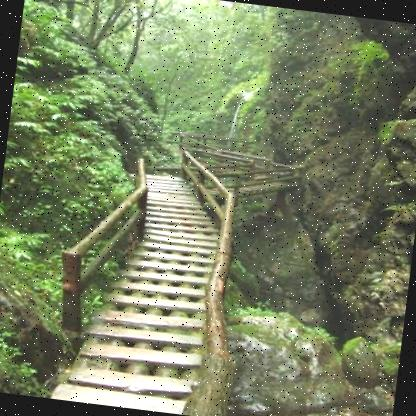stair: (61, 138, 235, 416)
